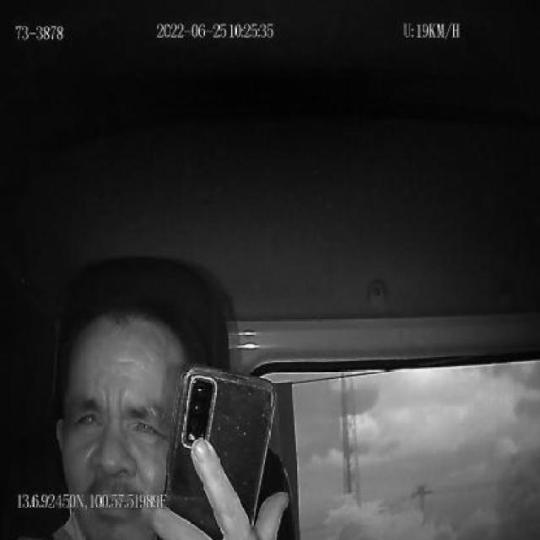phone: (166, 359, 278, 540)
